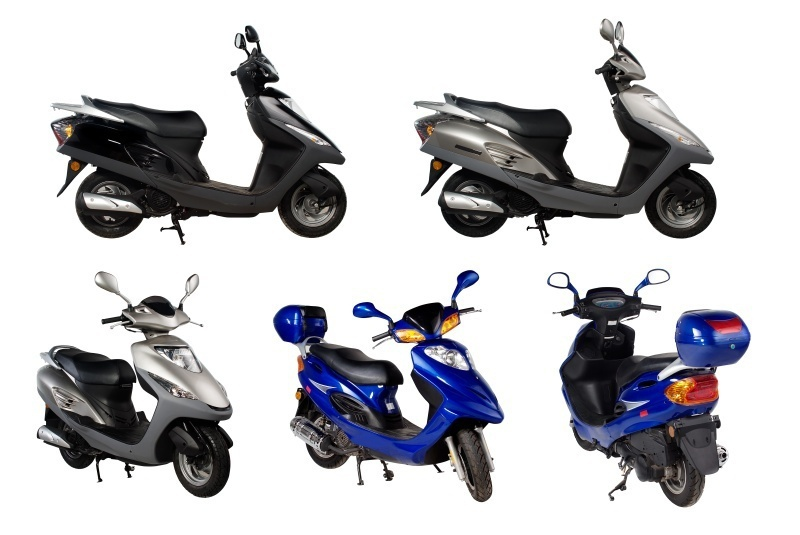non-vehicle: (400, 20, 730, 248), (38, 23, 361, 243), (534, 270, 758, 500), (276, 283, 516, 493), (26, 280, 248, 489)
